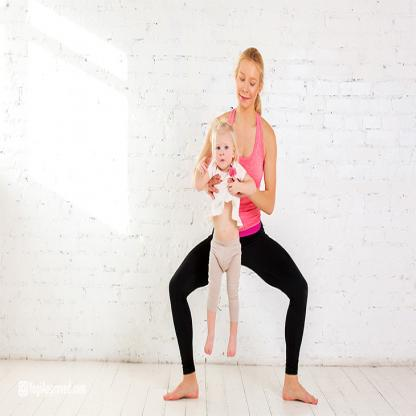godness: (160, 42, 322, 407)
